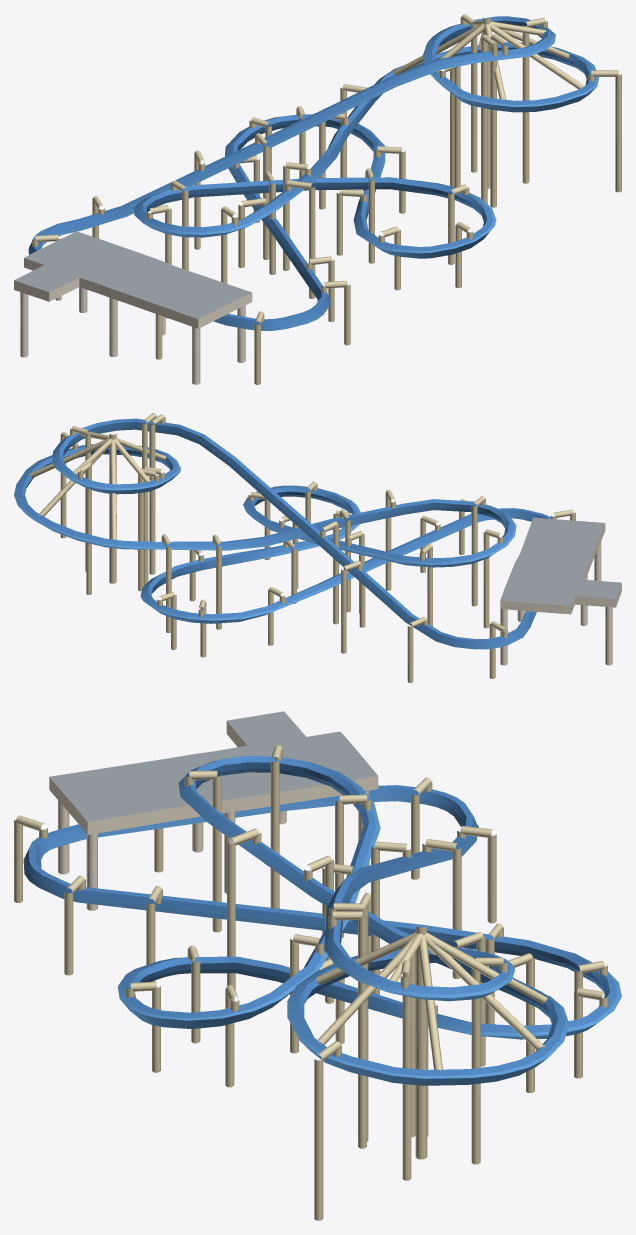
3 renders of one model, top to bottom at view 1: azimuth 30°, elevation 25°; view 2: azimuth 150°, elevation 25°; view 3: azimuth 270°, elevation 25°, orthographic. The views are drawn at different scales.
Visible parts, largest first — view 1: kiddy-hawk-carowinds; view 2: kiddy-hawk-carowinds; view 3: kiddy-hawk-carowinds.
Boxes of the visible parts, bbox=[...] form: kiddy-hawk-carowinds: bbox=[14, 14, 621, 384]; kiddy-hawk-carowinds: bbox=[14, 413, 621, 682]; kiddy-hawk-carowinds: bbox=[14, 711, 621, 1220].
Bounding box in the file's own units: 61.25 × 16.89 × 38.05.
